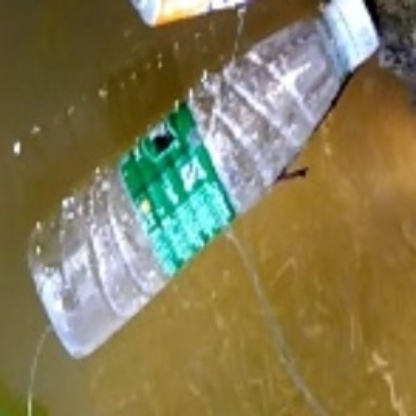bottle: (23, 4, 400, 360)
